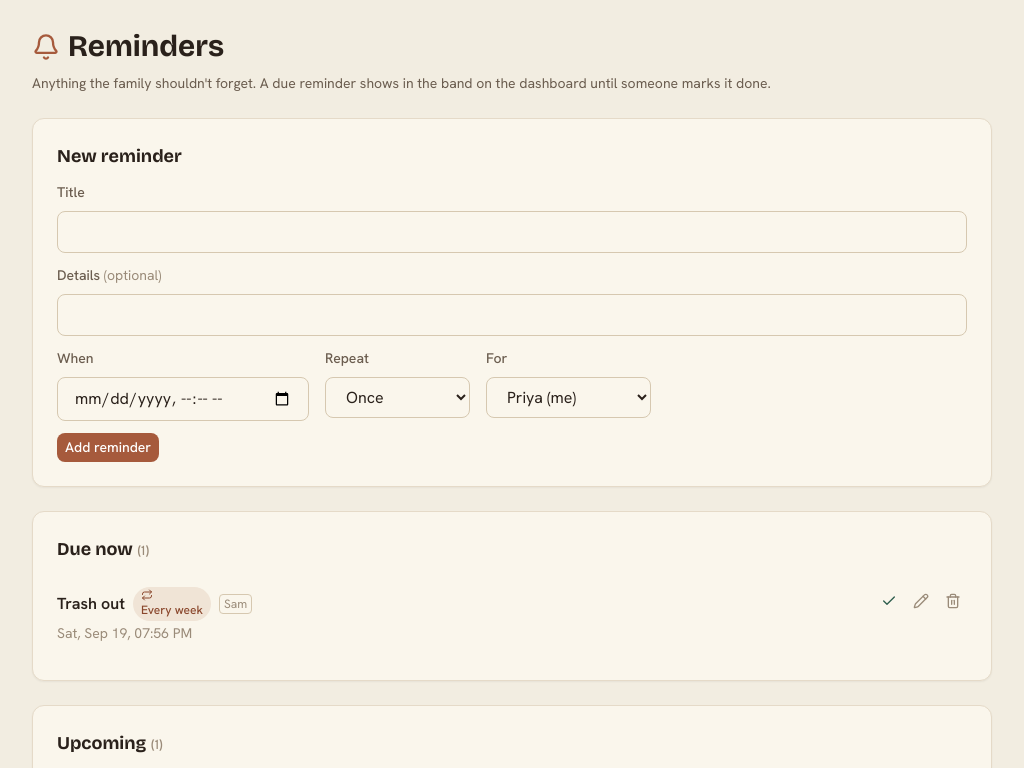
Test: RemindersPage › create form › validates the title
Click the button "Add reminder". click: (108, 448)
box: x1=57 y1=433 x2=159 y2=462
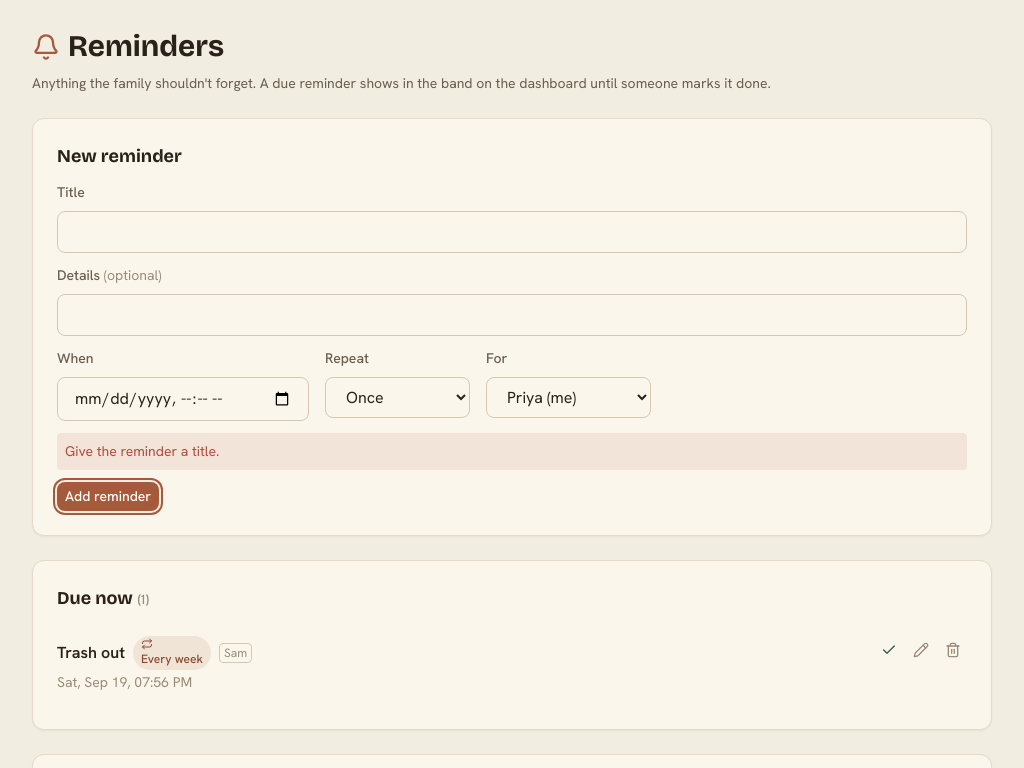
Result: the text "Give the reminder a title." is shown at x1=57 y1=433 x2=967 y2=470
